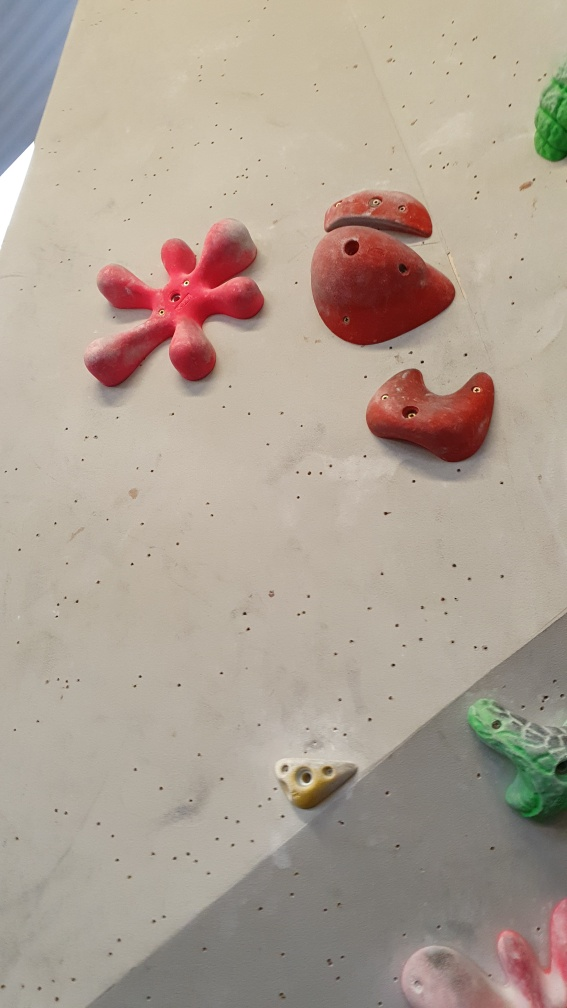Octopus Pinch: (85, 224, 266, 385)
